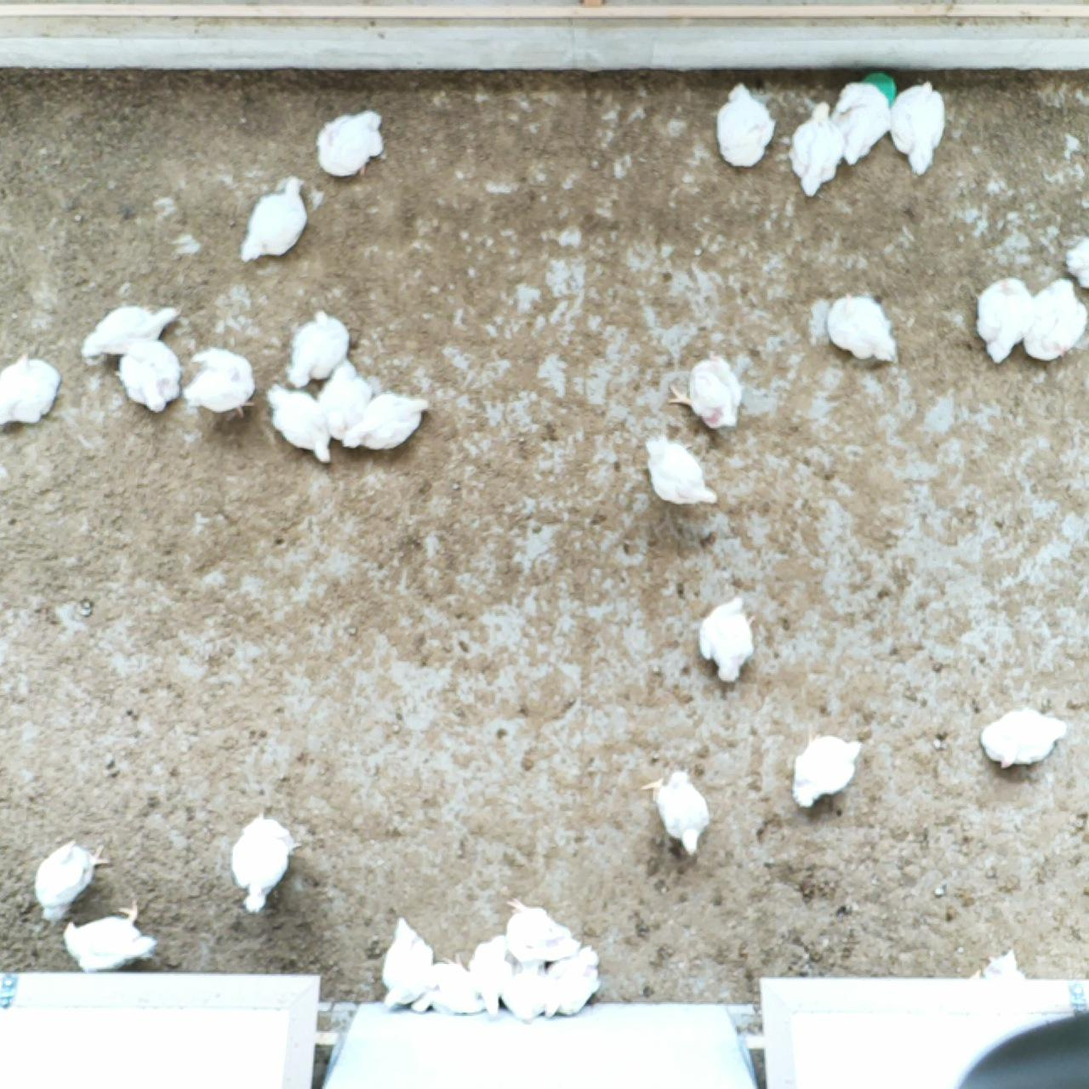chicken: (229, 809, 300, 916), (64, 898, 159, 972), (82, 301, 184, 367), (35, 838, 113, 924), (235, 174, 309, 264), (667, 352, 745, 435), (965, 276, 1036, 365), (641, 767, 710, 857), (499, 894, 582, 967), (1023, 274, 1089, 364), (787, 99, 847, 198), (887, 79, 948, 176), (262, 383, 333, 466), (311, 352, 375, 444), (378, 910, 435, 1013), (980, 708, 1070, 773), (826, 80, 892, 168), (180, 346, 259, 419), (644, 432, 720, 507), (826, 291, 900, 368), (715, 80, 779, 169), (697, 592, 757, 686), (343, 393, 431, 455), (792, 730, 861, 809), (282, 308, 351, 386), (114, 334, 182, 413), (316, 108, 388, 180), (407, 949, 483, 1016), (540, 940, 601, 1019), (467, 930, 517, 1015), (497, 946, 551, 1022), (1061, 234, 1089, 290)
